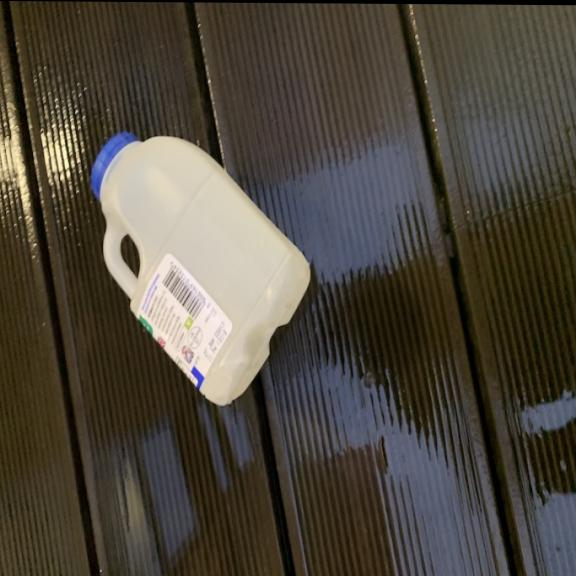Plastik: (88, 124, 316, 410)
